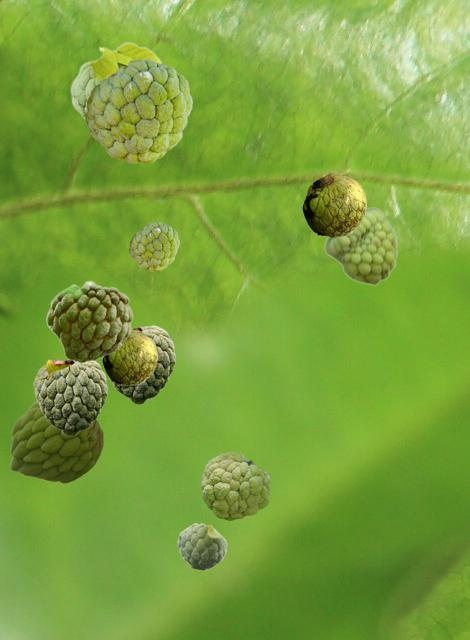atis: (85, 59, 191, 162), (10, 401, 102, 482), (69, 41, 161, 121), (45, 280, 132, 362), (324, 206, 397, 285), (33, 359, 106, 435), (108, 325, 174, 403), (201, 452, 269, 519), (302, 171, 365, 236), (102, 329, 156, 384), (129, 222, 178, 270), (177, 523, 226, 569)
